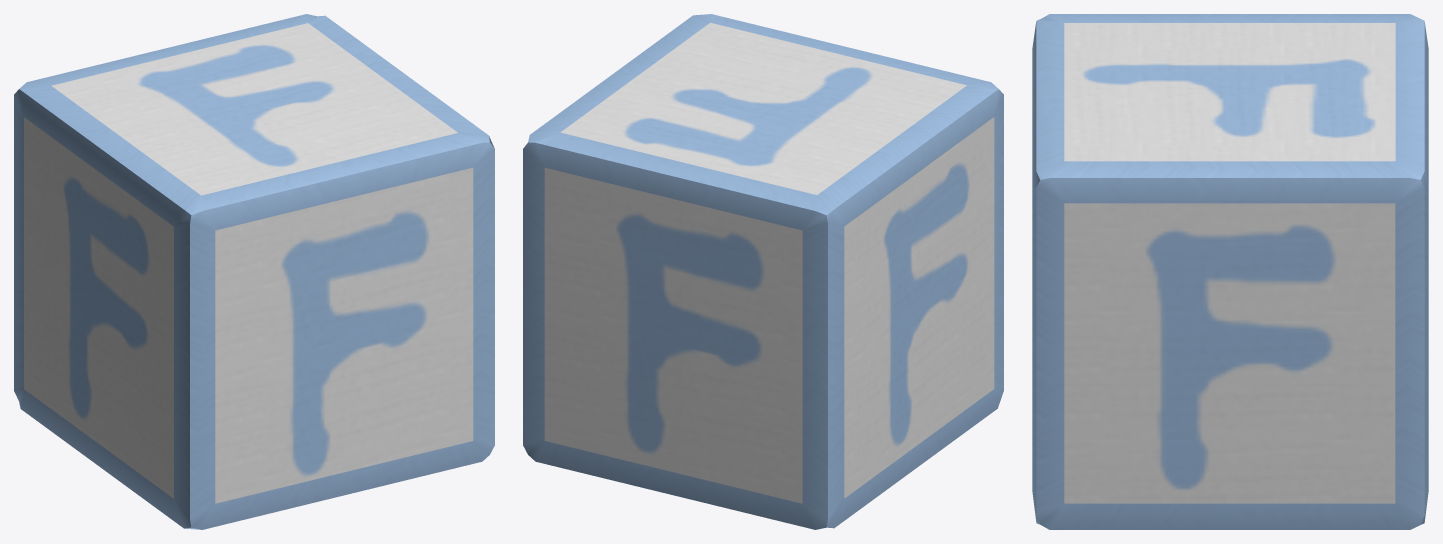
File: BlockF.fbx
The picture shows the model from 3 angles, left to right: view 1: azimuth 30°, elevation 25°; view 2: azimuth 150°, elevation 25°; view 3: azimuth 270°, elevation 25°; orthographic projection. The views are drawn at different scales.
Visible parts, largest first — view 1: pCube1; view 2: pCube1; view 3: pCube1.
Part boxes in pixels (box(x1,y1,x2,y2)): pCube1: box(14, 14, 494, 529); pCube1: box(523, 14, 1003, 529); pCube1: box(1032, 14, 1428, 529).
Size of the model in its own units: 9 by 9 by 9.
